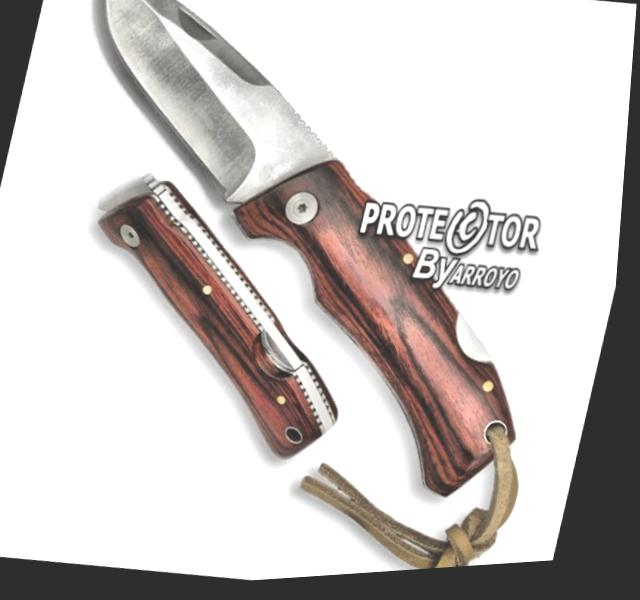knife: (47, 0, 381, 245)
